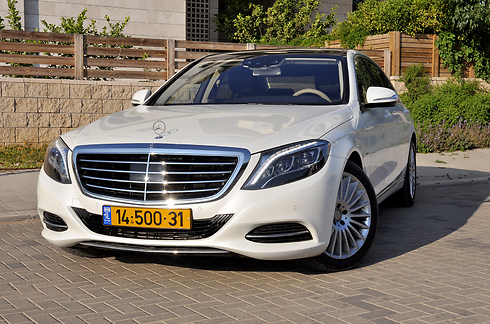licence: (101, 204, 193, 231)
